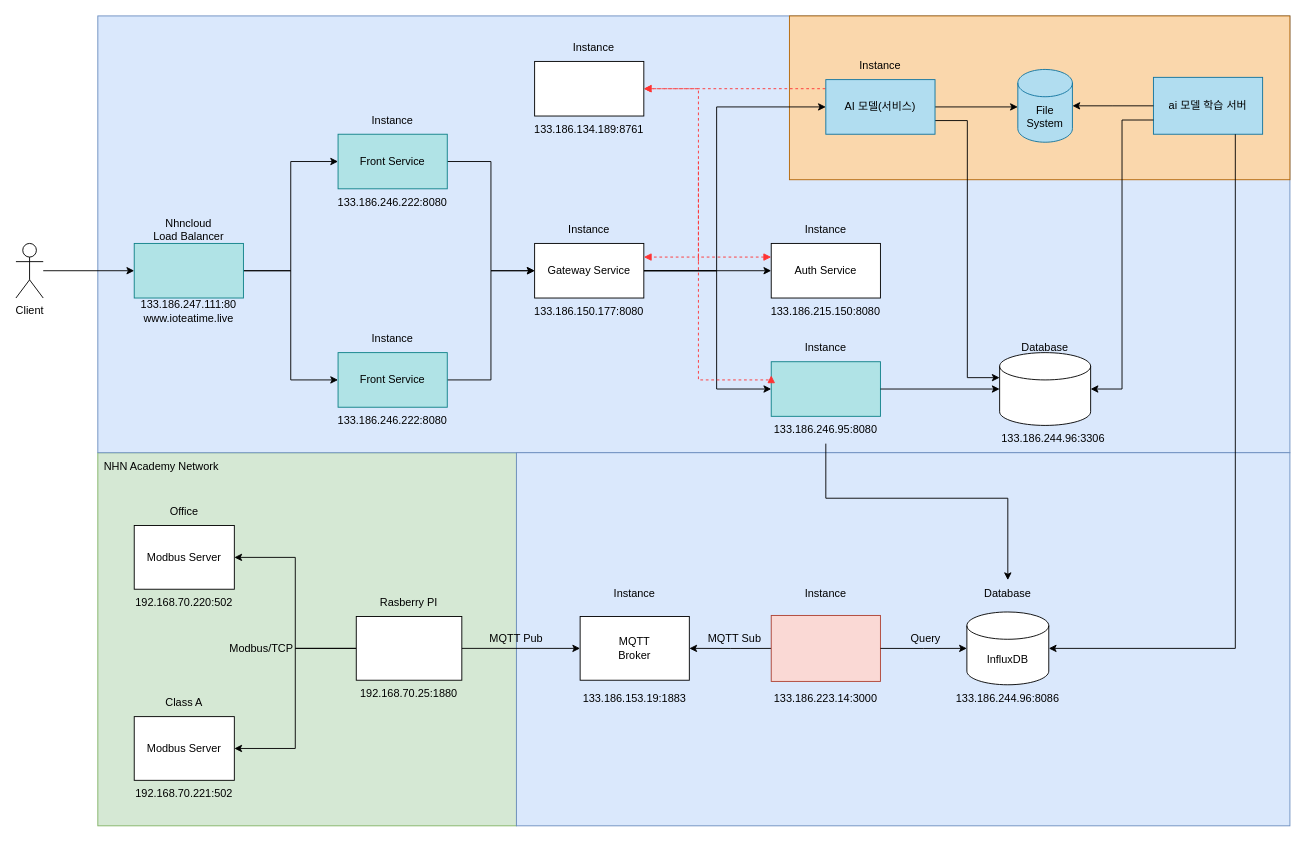
Image size: 1306x842. Some labels were removed from this diagram. The shapes that lost their labels are listed below. From the top down, each one's centre as x and y in pixels, then its label:
At point 589,88: "Discovery-service".
At point 188,270: "L4-switch".
At point 825,388: "API Service".
At point 1045,388: "MYSQL".
At point 408,648: "Gateway (Node-RED)".
At point 825,648: "Telegraf".
